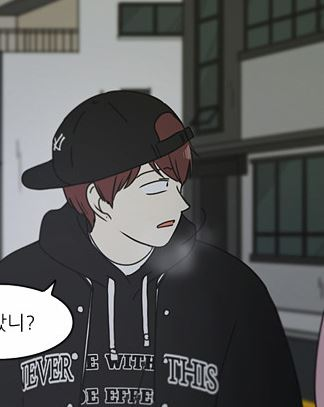hat: (20, 90, 197, 189)
